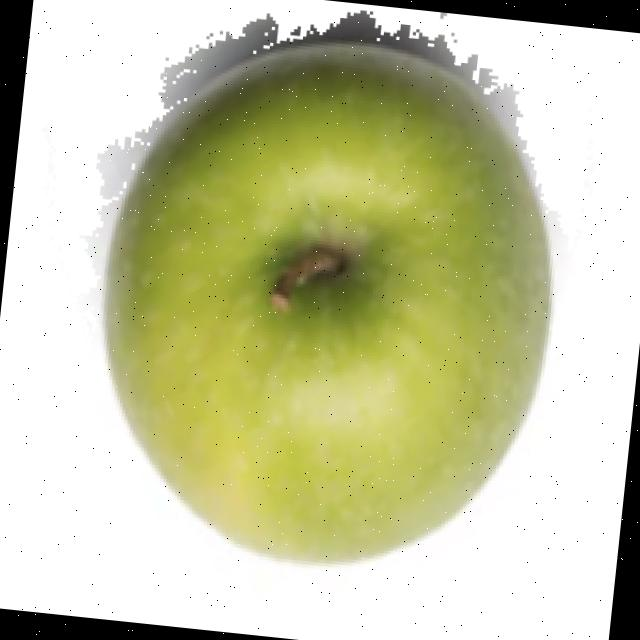apple: (77, 9, 572, 572)
